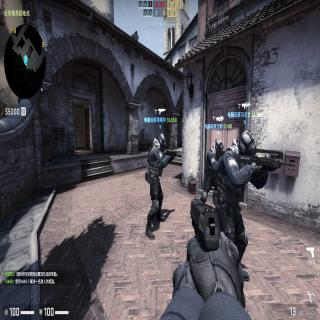CT-Body: (145, 133, 174, 240)
CT-Head: (238, 131, 256, 156), (158, 133, 166, 153), (216, 138, 223, 152)
